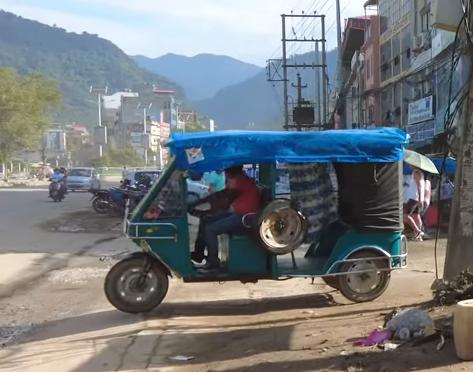car: (63, 166, 103, 194)
e-rickshaw: (96, 120, 408, 316)
scooter: (45, 175, 68, 203)
